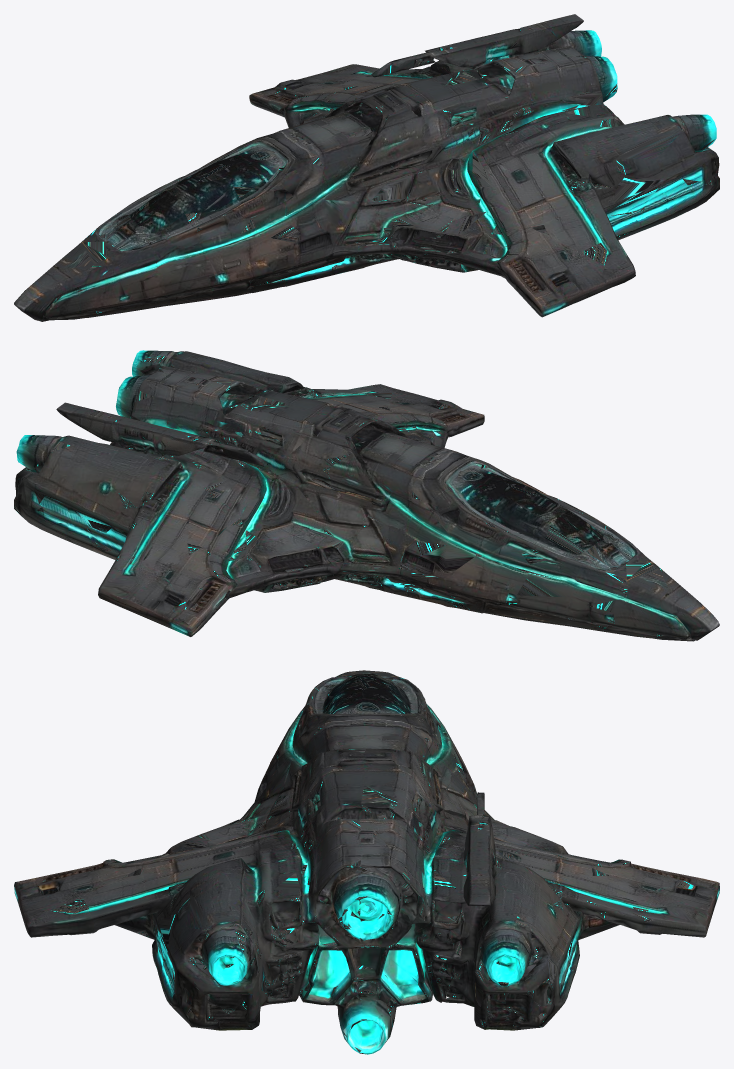
Rendered from scout.glb.
3 renders of one model, top to bottom at view 1: azimuth 30°, elevation 25°; view 2: azimuth 150°, elevation 25°; view 3: azimuth 270°, elevation 25°, orthographic. The views are drawn at different scales.
Size of the model in its own units: 1.9 by 0.4424 by 1.52.
1 material, 1 textured.
